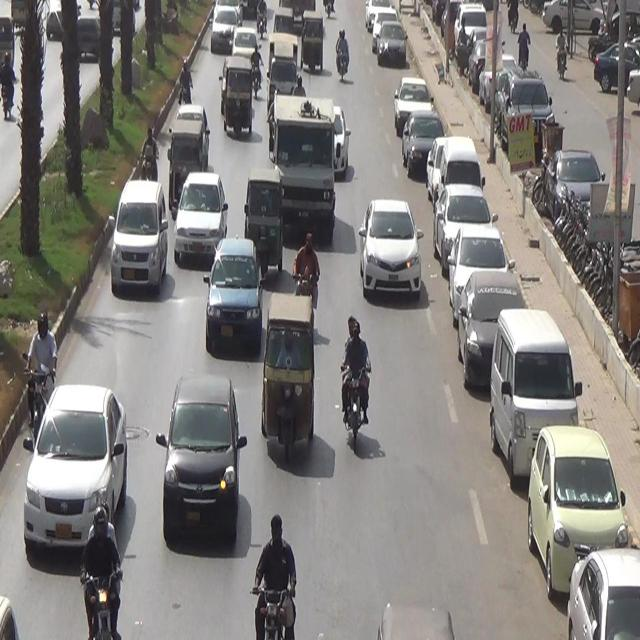car: (156, 369, 246, 555), (28, 396, 117, 552), (356, 200, 434, 312), (106, 182, 171, 300), (206, 227, 262, 352), (174, 173, 227, 269), (211, 4, 239, 52)
motorbike: (249, 505, 312, 640), (81, 505, 130, 640), (338, 307, 374, 461), (22, 307, 61, 428), (129, 120, 161, 185), (174, 42, 199, 122), (294, 230, 322, 295), (337, 34, 349, 84)
truck: (266, 92, 338, 245), (264, 27, 298, 103)
